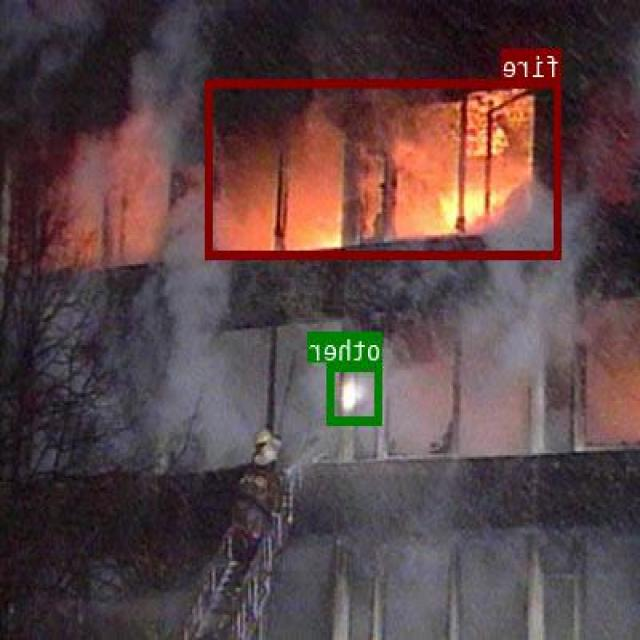fire: (208, 78, 563, 257)
other: (328, 360, 384, 422)
